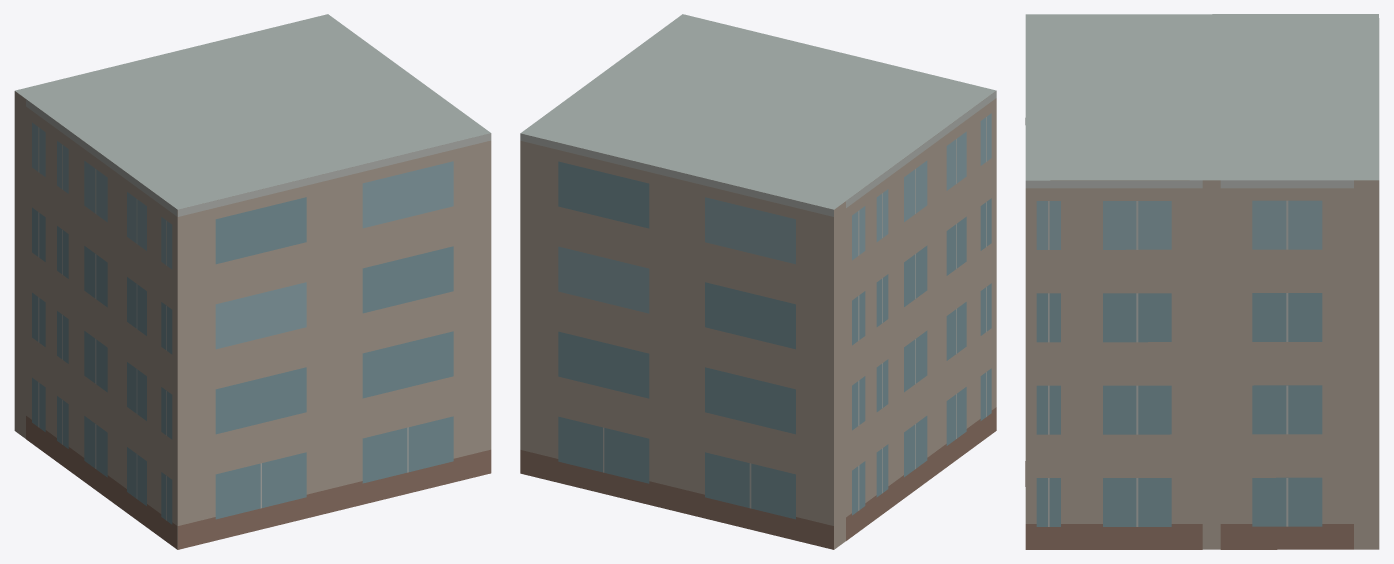
File: survey-upis-32579443.glb
The picture shows the model from 3 angles, left to right: view 1: azimuth 30°, elevation 25°; view 2: azimuth 150°, elevation 25°; view 3: azimuth 270°, elevation 25°; orthographic projection. The views are drawn at different scales.
Visible parts, largest first — view 1: survey-upis-32579443.tmp; view 2: survey-upis-32579443.tmp; view 3: survey-upis-32579443.tmp.
Boxes of the visible parts, box(x1,y1,x2,y2) form: survey-upis-32579443.tmp: box(14, 14, 491, 549); survey-upis-32579443.tmp: box(520, 14, 996, 549); survey-upis-32579443.tmp: box(1025, 14, 1379, 549).
Bounding box in the file's own units: 10.94 × 11.3 × 9.83.
